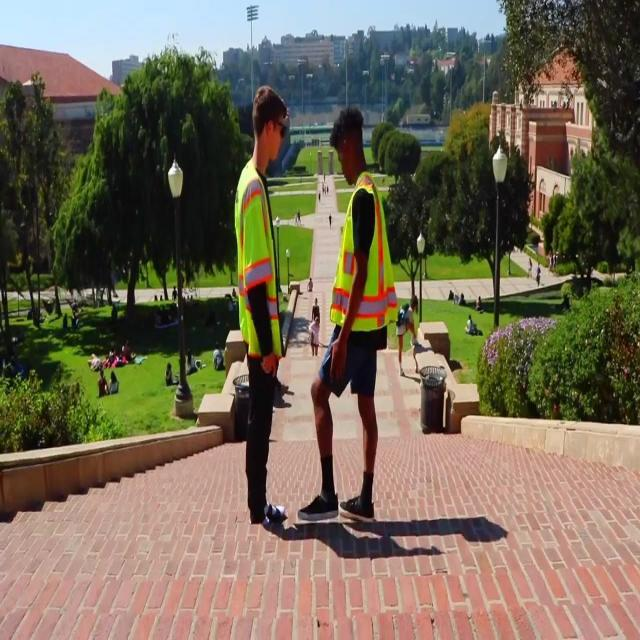vest: (334, 172, 400, 332), (231, 158, 283, 361)
